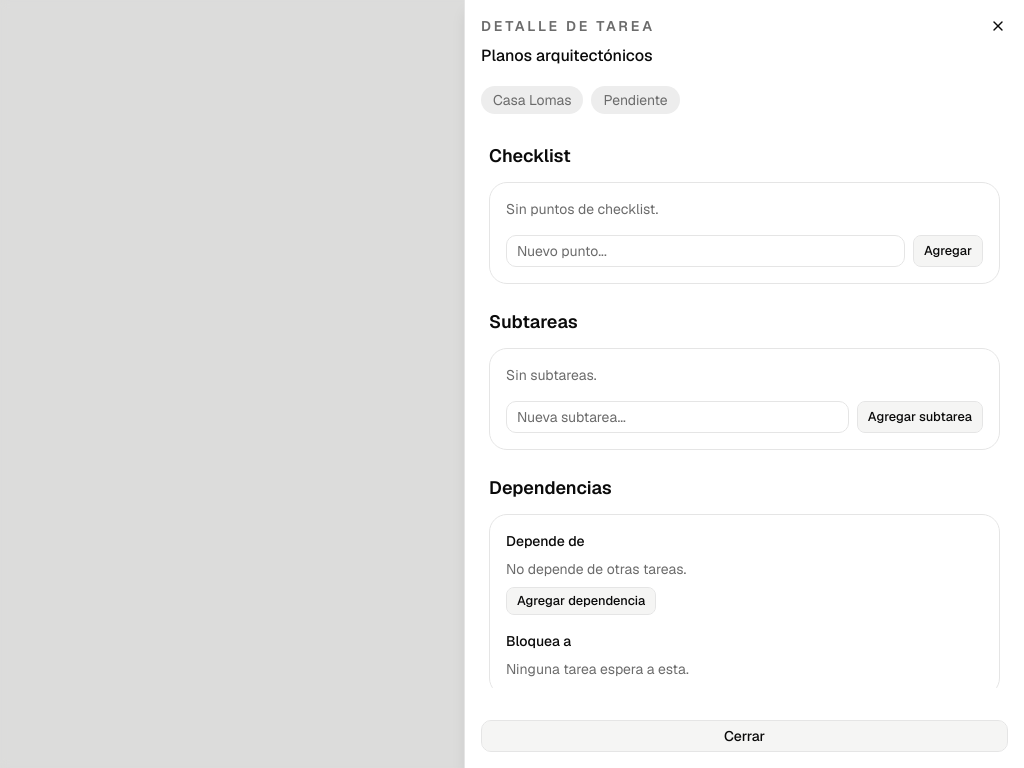
Test: TaskDrawer Subtareas › adds a subtask and reloads the list
(page scrolled)
Expected: the text "Sin subtareas." is shown, [506,366,596,384]
In the field named "Título de la subtarea": point(677, 417) [506,401,849,433], type "  Fachada norte  "
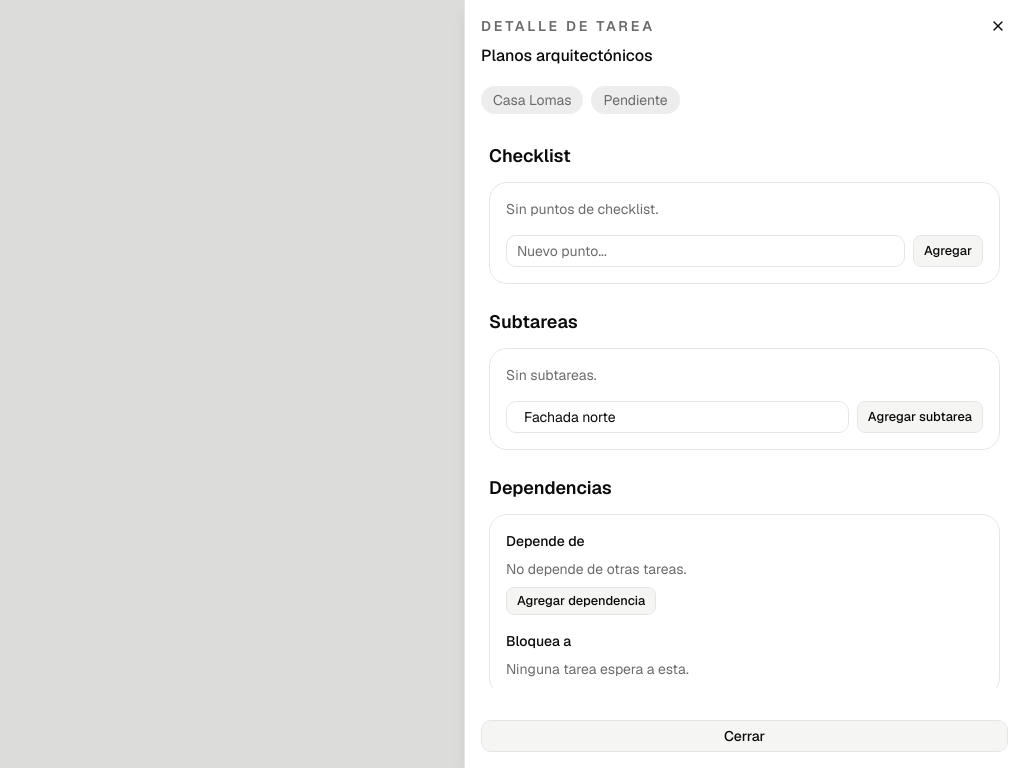
Click the button "Agregar subtarea": point(920, 417) [857,401,983,433]
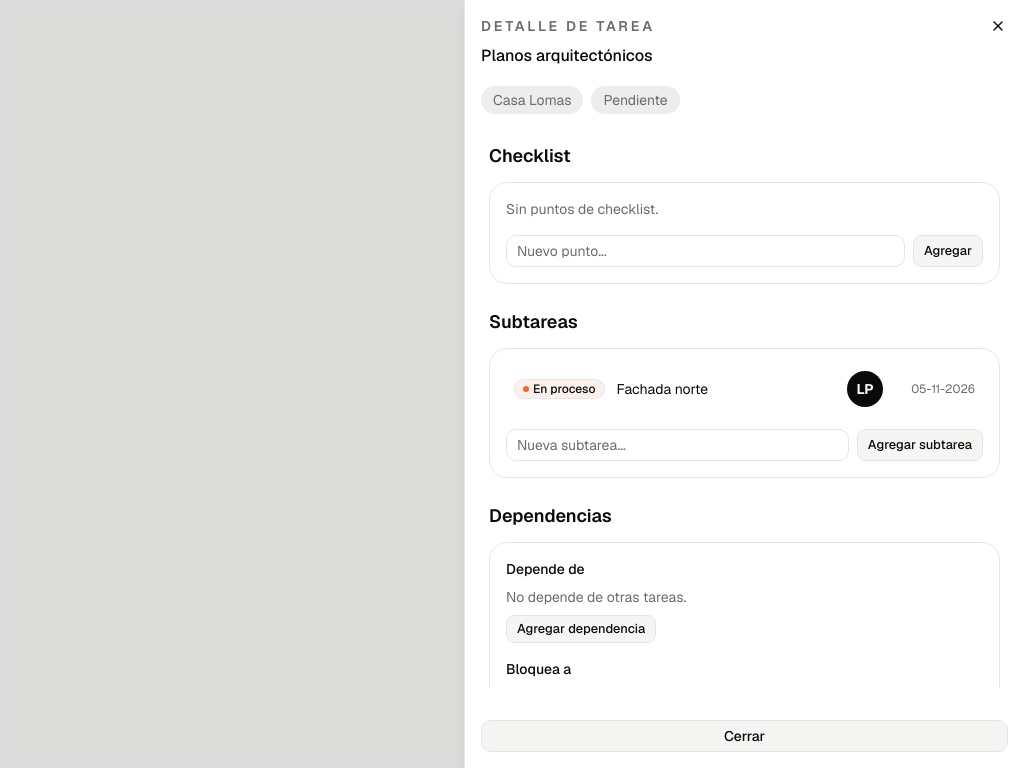
Expected: the text "Fachada norte" is shown, [616,380,708,398]
